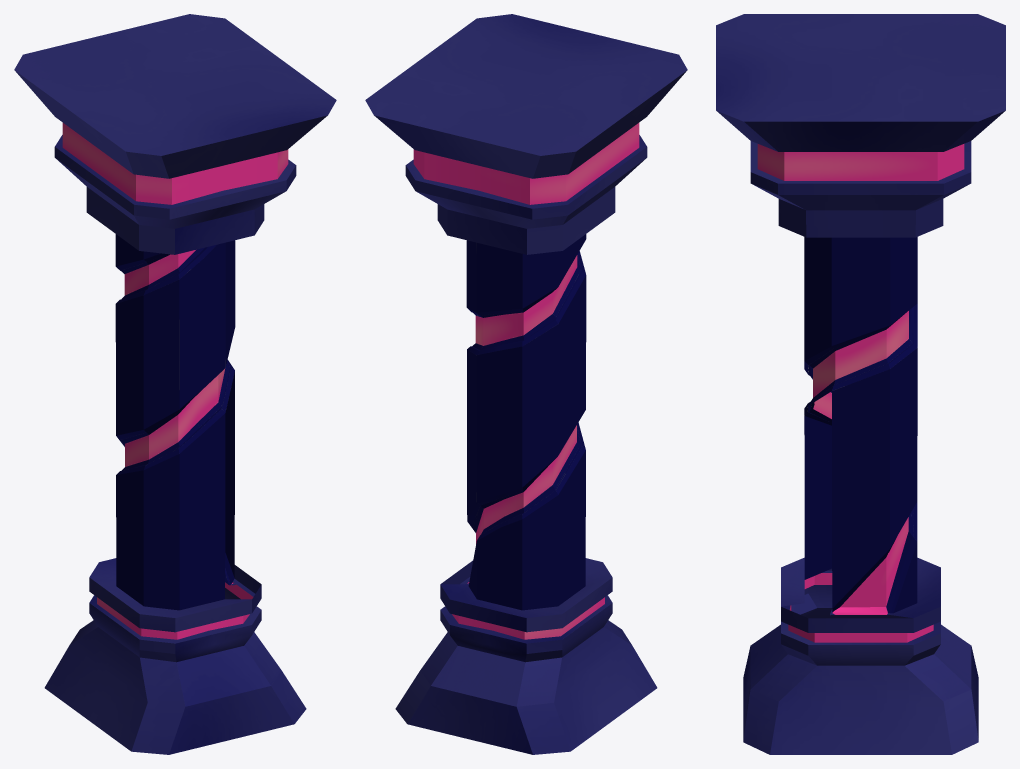
Rendered from VIGAPIEDRA_R.obj.
3 views of the same model, side by side, from view 1: azimuth 30°, elevation 25°; view 2: azimuth 150°, elevation 25°; view 3: azimuth 270°, elevation 25° (orthographic). The views are drawn at different scales.
Parts seen in each view (by area): view 1: pCube1_pCube1SG, pCube1_pCube1SG2_4, pCube1_pCube1SG_12, pCube1_pCube1SG_6, pCube1_pCube1SG_2, pCube1_pCube1SG1_22, pCube1_pCube1SG_4, pCube1_pCube1SG2_3, pCube1_pCube1SG1_12, pCube1_pCube1SG2_2, pCube1_pCube1SG_8, pCube1_pCube1SG1_6 (+6 smaller); view 2: pCube1_pCube1SG2_4, pCube1_pCube1SG, pCube1_pCube1SG_12, pCube1_pCube1SG_10, pCube1_pCube1SG_16, pCube1_pCube1SG_8, pCube1_pCube1SG2_3, pCube1_pCube1SG1_22, pCube1_pCube1SG_14, pCube1_pCube1SG1_12, pCube1_pCube1SG2_2, pCube1_pCube1SG1_16 (+6 smaller); view 3: pCube1_pCube1SG, pCube1_pCube1SG_18, pCube1_pCube1SG2_4, pCube1_pCube1SG2_3, pCube1_pCube1SG_14, pCube1_pCube1SG_4, pCube1_pCube1SG1_22, pCube1_pCube1SG1_18, pCube1_pCube1SG_19, pCube1_pCube1SG_20, pCube1_pCube1SG_6, pCube1_pCube1SG_16 (+8 smaller).
Boxes of the visible parts, x1,y1,x2,y2 form: pCube1_pCube1SG: [14, 14, 336, 754]; pCube1_pCube1SG2_4: [115, 242, 234, 610]; pCube1_pCube1SG_12: [14, 70, 147, 751]; pCube1_pCube1SG_6: [203, 115, 327, 739]; pCube1_pCube1SG_2: [161, 136, 244, 754]; pCube1_pCube1SG1_22: [124, 250, 232, 584]; pCube1_pCube1SG_4: [170, 164, 306, 723]; pCube1_pCube1SG2_3: [115, 234, 235, 585]; pCube1_pCube1SG1_12: [62, 123, 135, 200]; pCube1_pCube1SG2_2: [121, 247, 229, 470]; pCube1_pCube1SG_8: [70, 179, 285, 644]; pCube1_pCube1SG1_6: [223, 152, 277, 190]; pCube1_pCube1SG2_4: [467, 251, 586, 610]; pCube1_pCube1SG: [365, 14, 687, 644]; pCube1_pCube1SG_12: [474, 70, 687, 751]; pCube1_pCube1SG_10: [457, 136, 562, 754]; pCube1_pCube1SG_16: [374, 115, 498, 739]; pCube1_pCube1SG_8: [516, 151, 575, 754]; pCube1_pCube1SG2_3: [466, 234, 586, 528]; pCube1_pCube1SG1_22: [475, 255, 577, 543]; pCube1_pCube1SG_14: [395, 146, 646, 723]; pCube1_pCube1SG1_12: [566, 123, 639, 200]; pCube1_pCube1SG2_2: [472, 256, 581, 534]; pCube1_pCube1SG1_16: [424, 152, 478, 190]; pCube1_pCube1SG: [716, 14, 1005, 616]; pCube1_pCube1SG_18: [744, 121, 977, 754]; pCube1_pCube1SG2_4: [804, 304, 917, 613]; pCube1_pCube1SG2_3: [804, 237, 917, 612]; pCube1_pCube1SG_14: [808, 111, 1004, 754]; pCube1_pCube1SG_4: [717, 111, 816, 754]; pCube1_pCube1SG1_22: [813, 311, 908, 614]; pCube1_pCube1SG1_18: [784, 152, 937, 180]; pCube1_pCube1SG_19: [778, 183, 943, 194]; pCube1_pCube1SG_20: [778, 181, 943, 655]; pCube1_pCube1SG_6: [743, 587, 804, 739]; pCube1_pCube1SG_16: [917, 587, 978, 739].
Bounding box in the file's own units: 129 × 358 × 147.
Materials: 3 (3 with a texture image).
